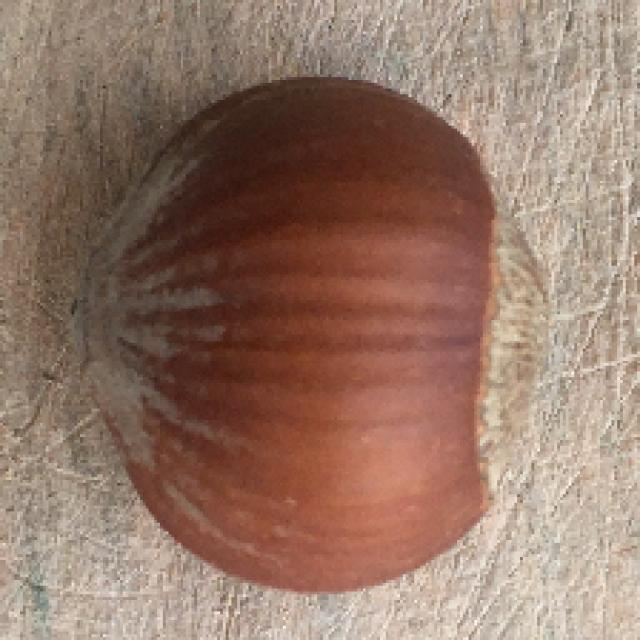damagedHazelnut: (59, 59, 560, 584)
